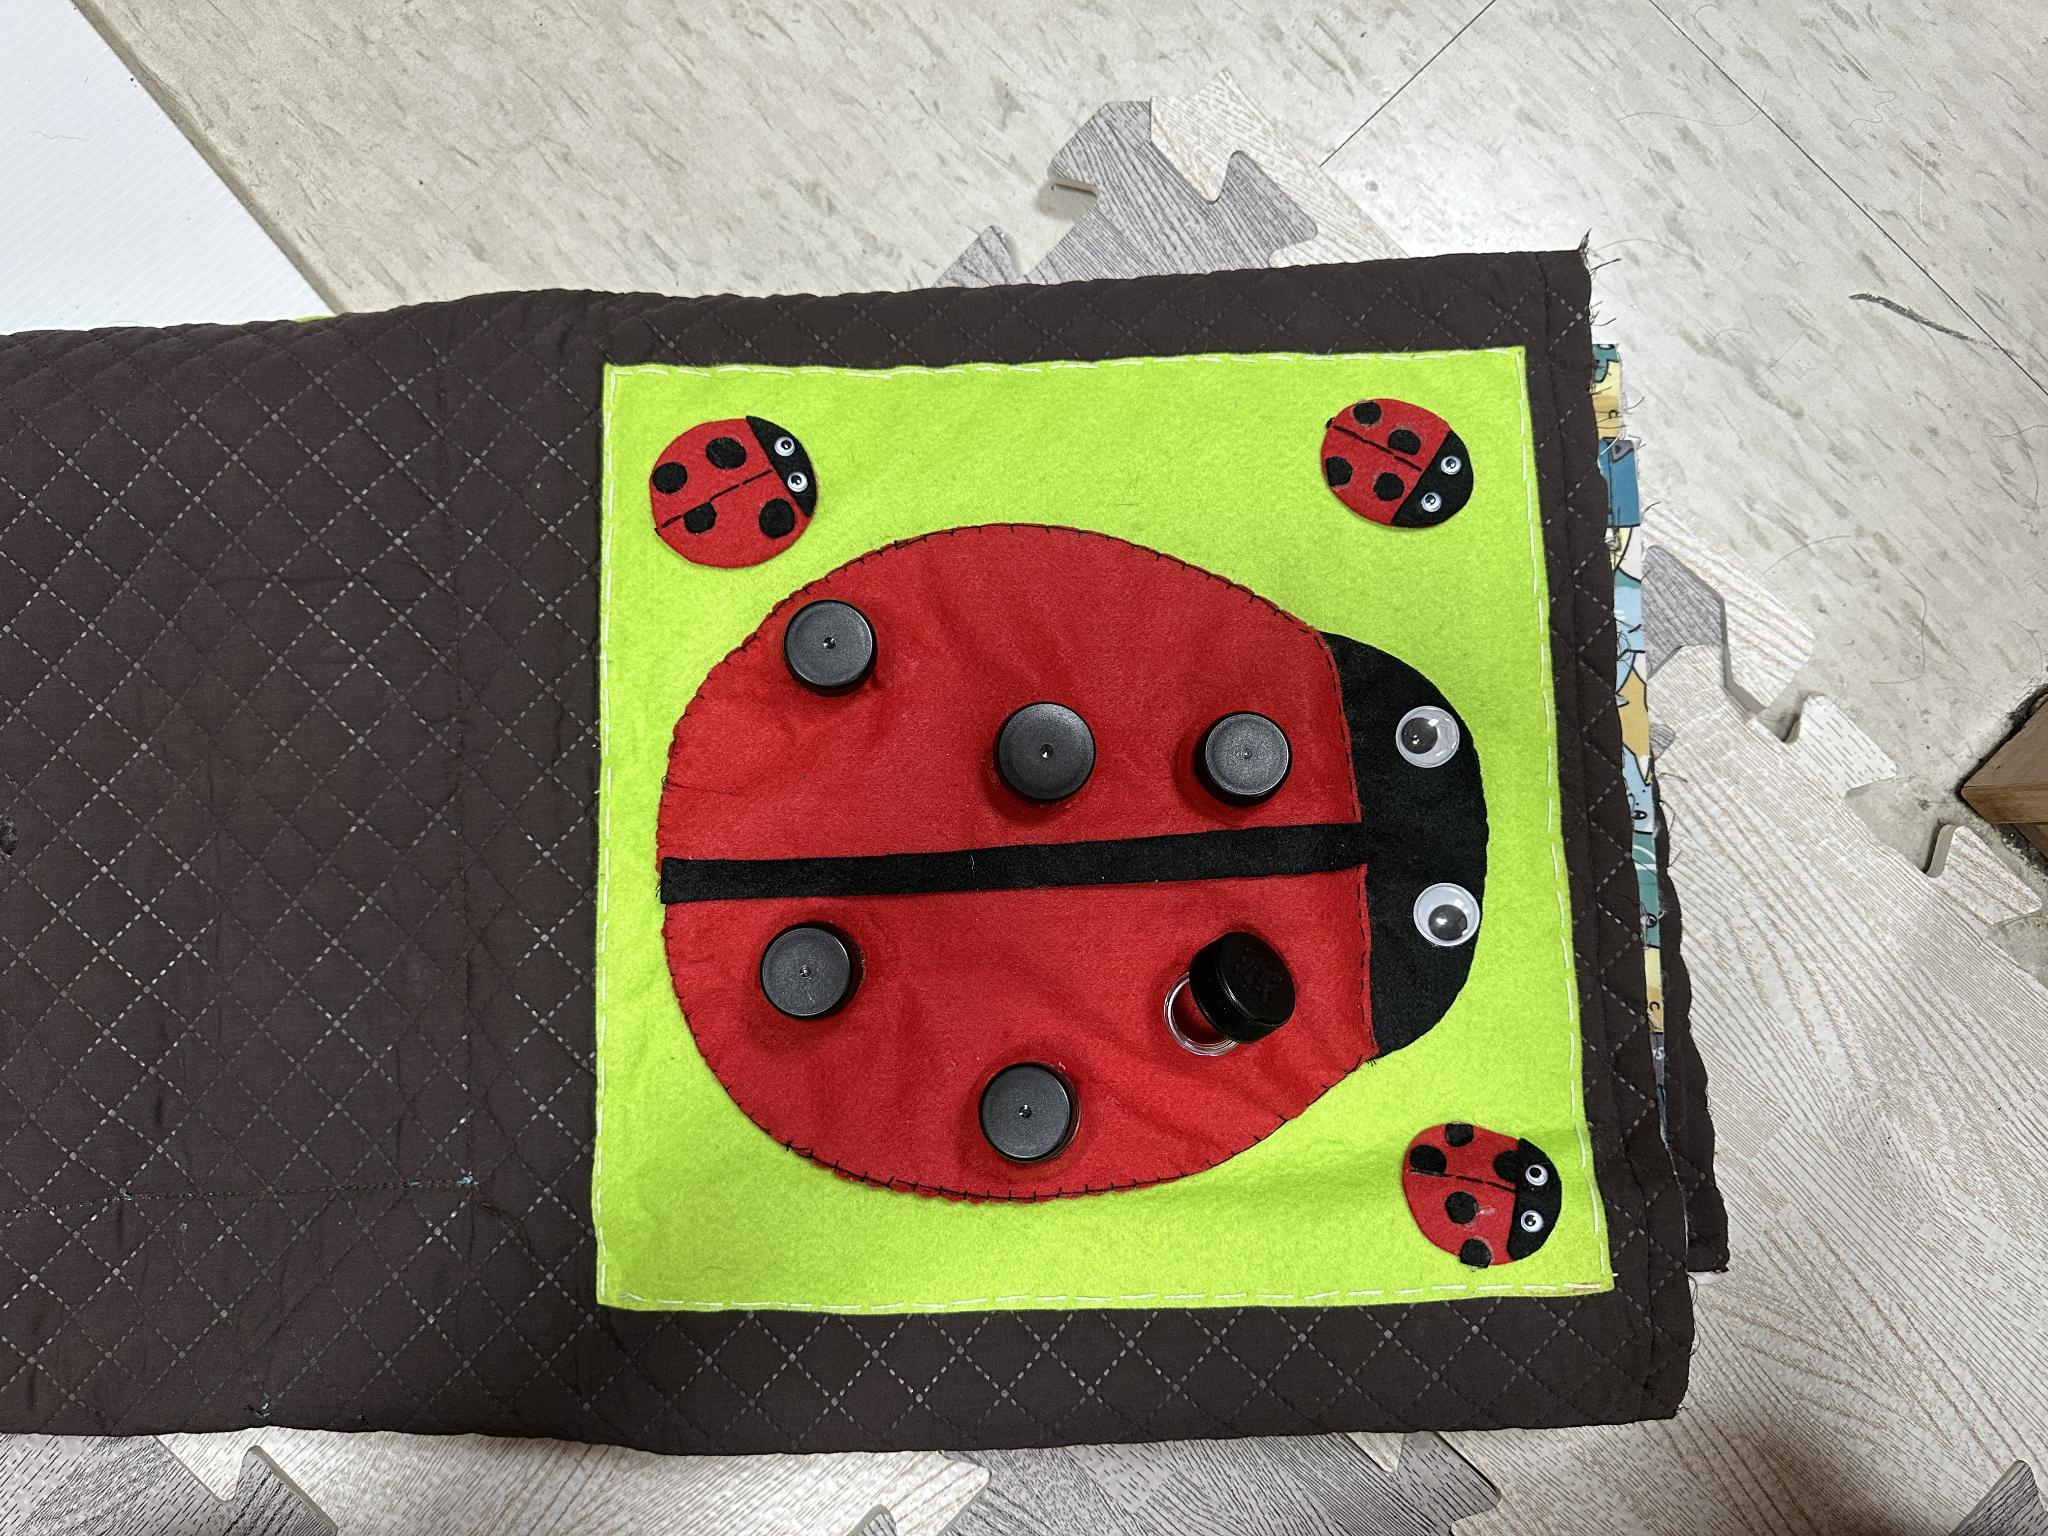cap_ng: (1137, 920, 1308, 1084)
cap_ok: (942, 1049, 1105, 1199), (729, 904, 892, 1052), (968, 686, 1113, 818), (760, 587, 897, 710), (1172, 702, 1301, 824)
